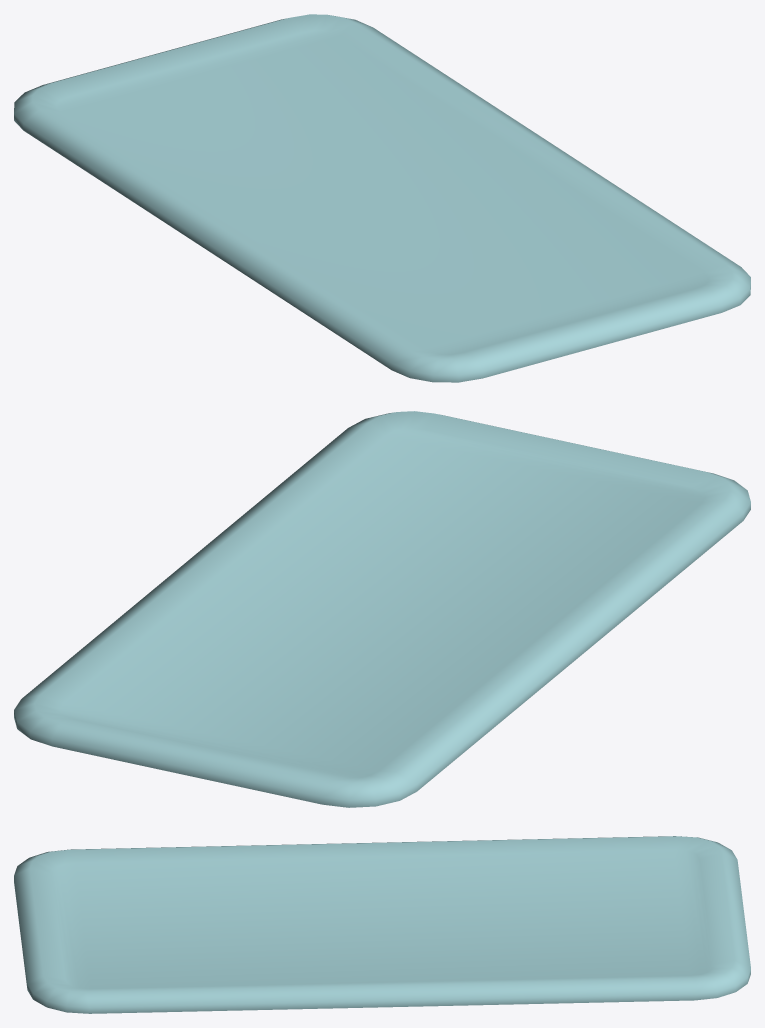
File: MatBathroom.fbx
3 views of the same model, one above another, from view 1: azimuth 30°, elevation 25°; view 2: azimuth 150°, elevation 25°; view 3: azimuth 270°, elevation 25° (orthographic). The views are drawn at different scales.
Visible parts, largest first — view 1: Mat_Bathroom; view 2: Mat_Bathroom; view 3: Mat_Bathroom.
Part boxes in pixels (box(x1,y1,x2,y2)): Mat_Bathroom: box(14, 14, 750, 382); Mat_Bathroom: box(14, 411, 750, 807); Mat_Bathroom: box(14, 836, 750, 1013).
Bounding box in the file's own units: 1489 × 56.68 × 2707.
